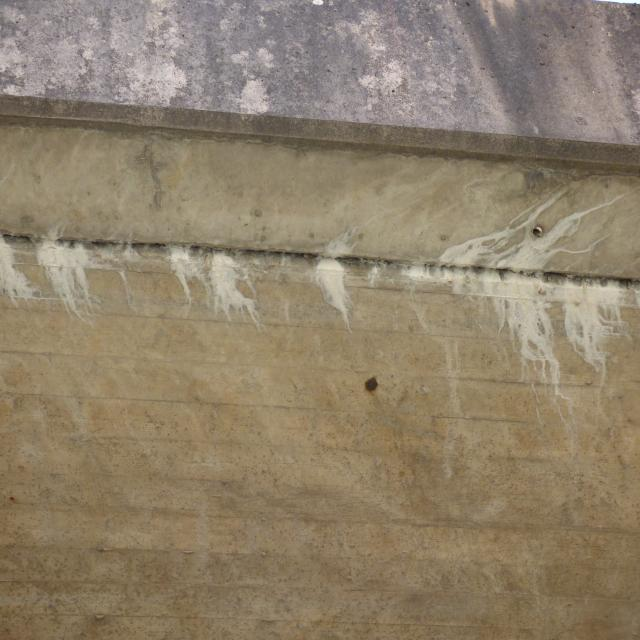corrosion: (362, 373, 381, 393)
